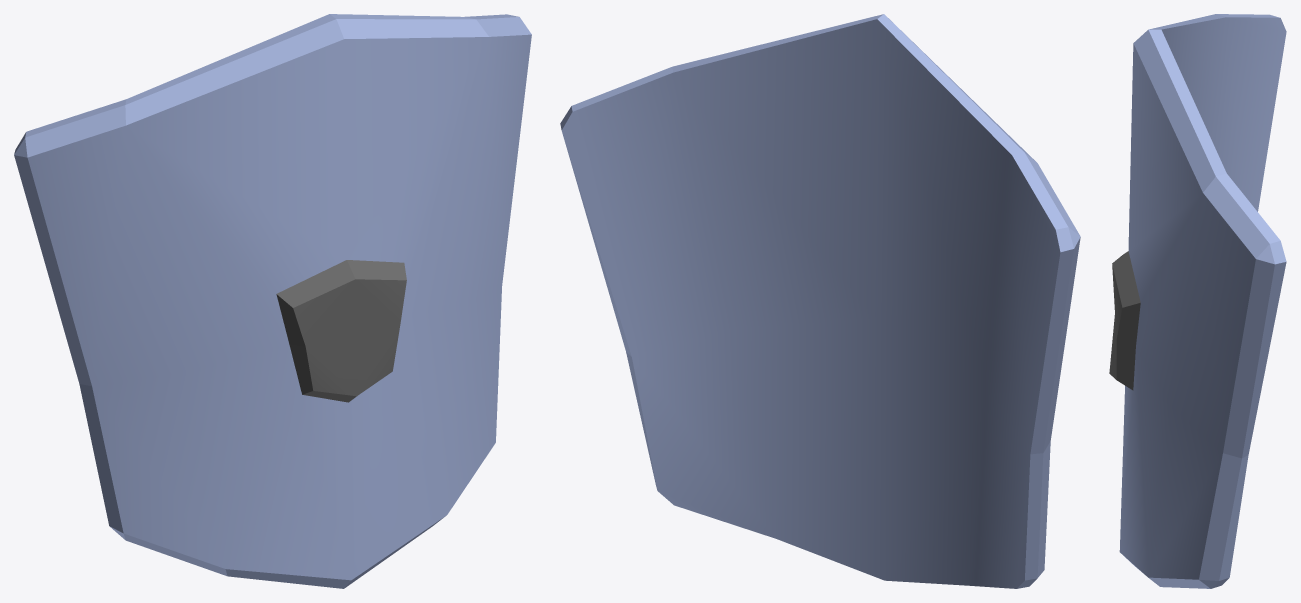
File: Shield.fbx
3 renders of one model, left to right at view 1: azimuth 30°, elevation 25°; view 2: azimuth 150°, elevation 25°; view 3: azimuth 270°, elevation 25°, orthographic. The views are drawn at different scales.
Visible parts, largest first — view 1: pCube3; view 2: pCube3; view 3: pCube3.
Part boxes in pixels (x1,y1,x2,y2): pCube3: (14,14,531,588); pCube3: (560,14,1080,588); pCube3: (1109,14,1286,588).
Size of the model in its own units: 0.8967 by 0.9458 by 0.2834.
